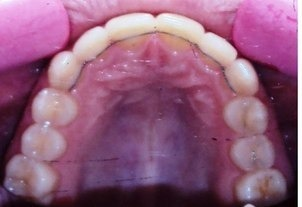UL1BC_healthy: (224, 97, 268, 134)
UL1M_healthy: (236, 172, 286, 199)
UL2BC_healthy: (232, 138, 277, 169)
ULCI_decay: (156, 13, 202, 53)
ULC_decay: (223, 60, 259, 98)
ULLI_decay: (202, 33, 234, 68)
UR1BC_healthy: (32, 91, 77, 125)
UR1M_healthy: (7, 158, 60, 202)
UR2BC_healthy: (24, 127, 67, 158)
URCI_decay: (109, 14, 155, 47)
URC_decay: (49, 54, 84, 88)
URLI_decay: (75, 28, 109, 61)
